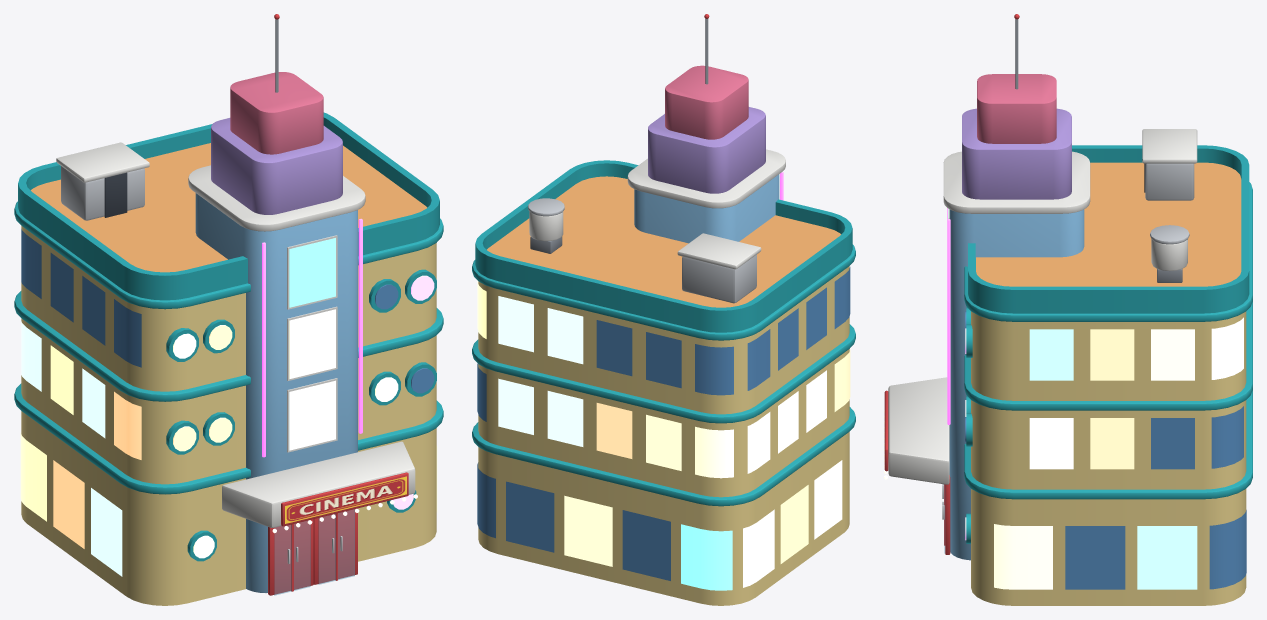
Rendered from cinema_deco.glb.
3 renders of one model, left to right at view 1: azimuth 30°, elevation 25°; view 2: azimuth 150°, elevation 25°; view 3: azimuth 270°, elevation 25°, orthographic. The views are drawn at different scales.
Visible parts, largest first — view 1: cinema_deco; view 2: cinema_deco; view 3: cinema_deco.
Part boxes in pixels (x1=…): cinema_deco: x1=14, y1=14, x2=443, y2=605; cinema_deco: x1=472, y1=14, x2=855, y2=605; cinema_deco: x1=884, y1=14, x2=1252, y2=605.
Bounding box in the file's own units: 11.44 × 18.79 × 12.06.
12 materials, 2 textured.
